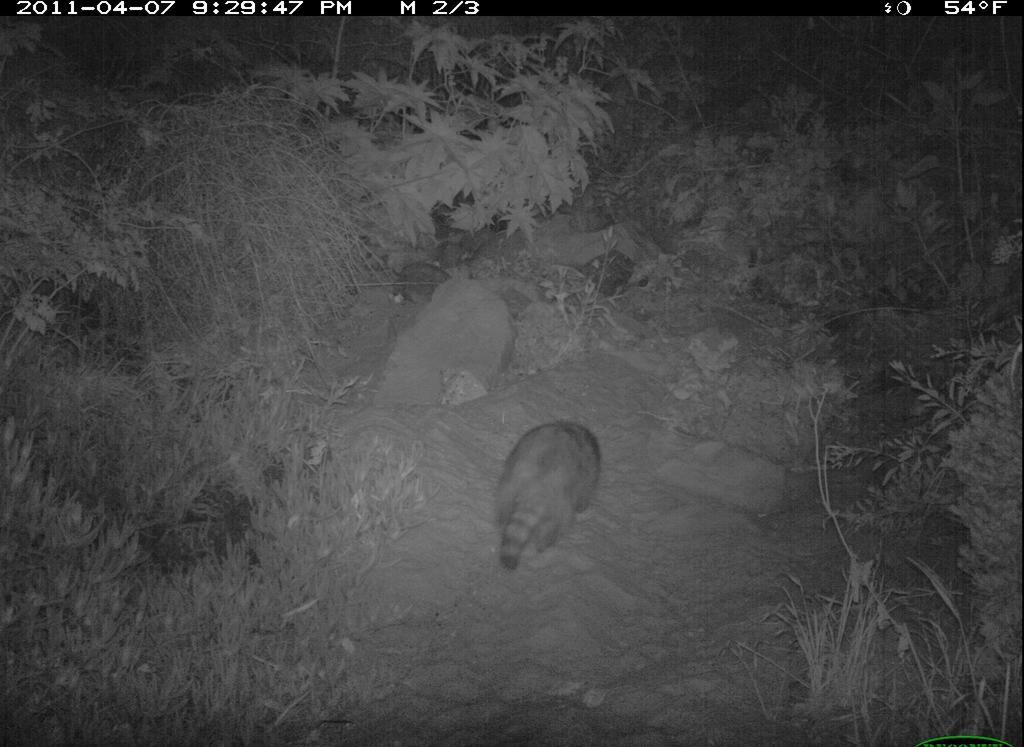raccoon: (487, 417, 612, 587)
